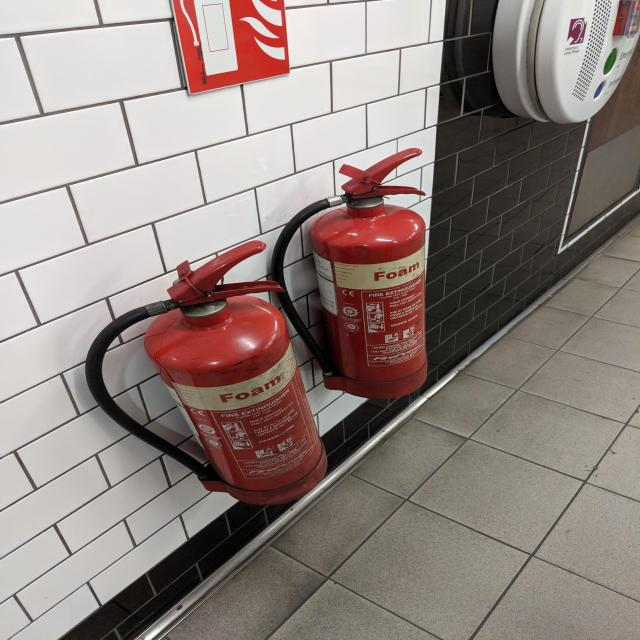fire_extinguisher: (82, 239, 331, 509), (264, 146, 437, 402)
